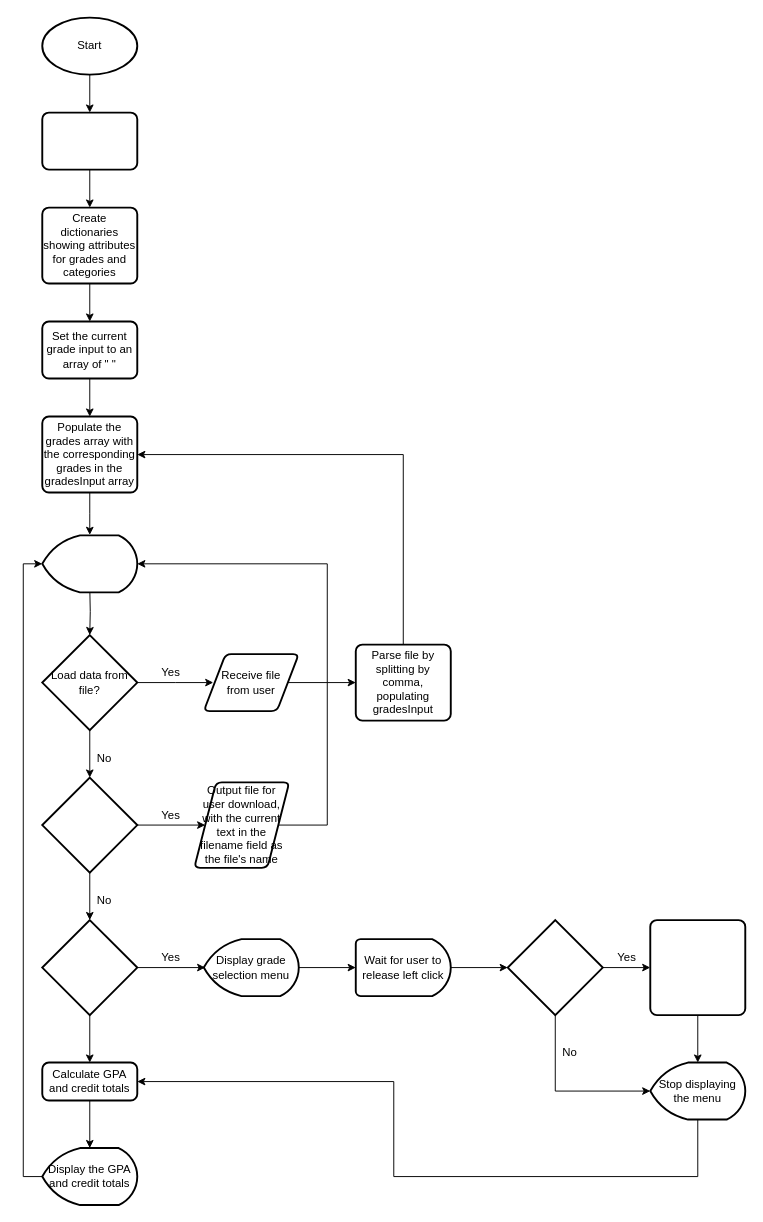
The diagram is 763 pixels wide and 1222 high, and some of its shapes have lost their labels. The shapes that lost their labels are listed below. From the top down, each one's centre as x and y in pixels, then its label:
the point at 89,140: Setup the environment
the point at 89,563: Display all grades, totals, and file i/o buttons
the point at 89,824: Save data to file?
the point at 89,967: Holding left click on a grade?
the point at 554,967: Released over a grade selection?
the point at 697,967: Change the value of the selected grade to the selection
